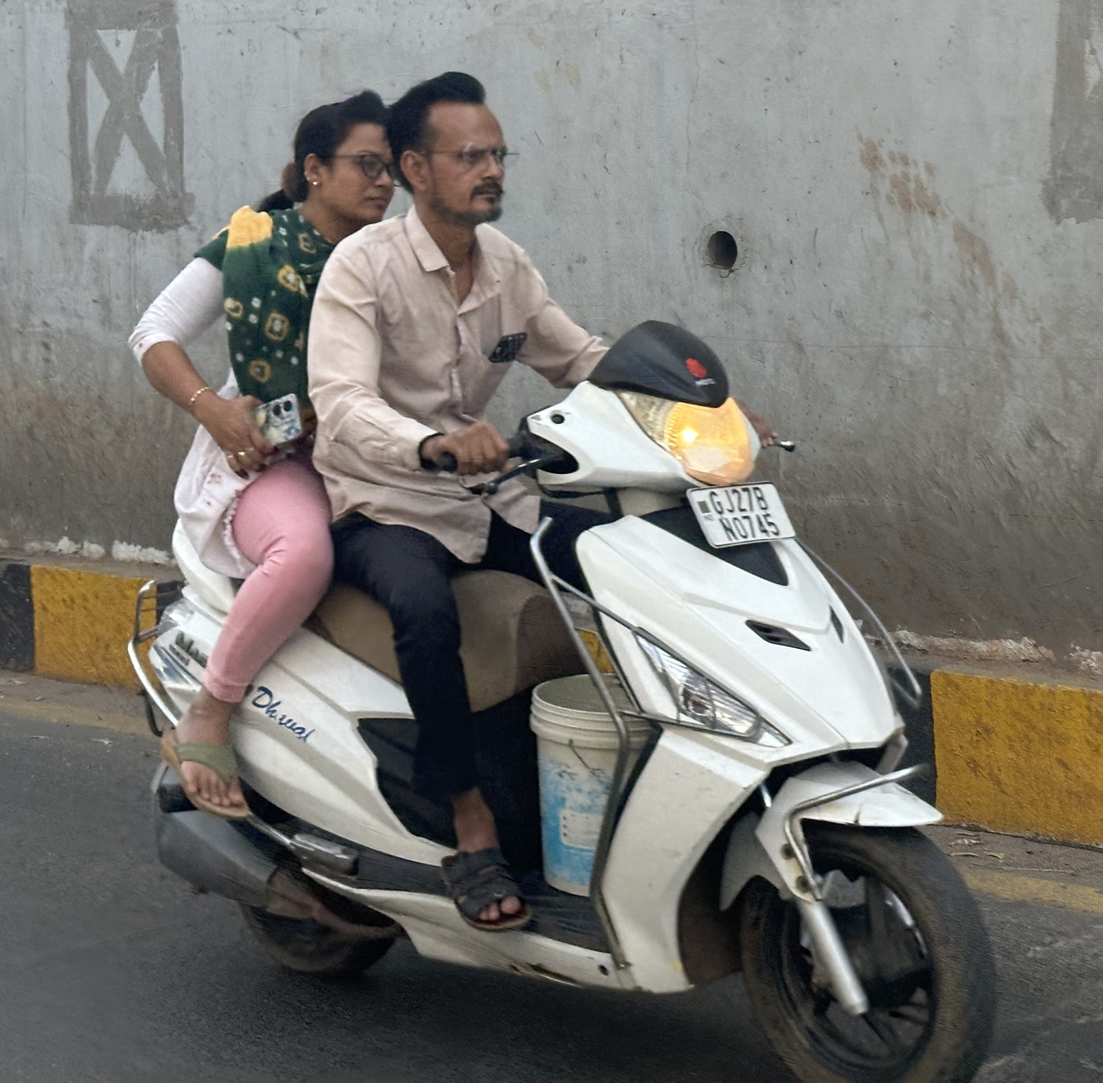BikeWithRider: (102, 61, 1019, 1081)
NoHelmet: (376, 63, 527, 234), (276, 82, 411, 237)
